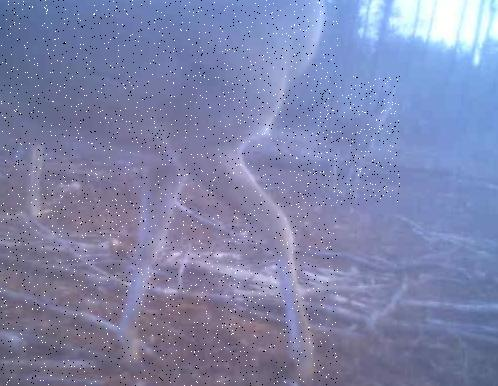Deer: (0, 0, 338, 386), (313, 75, 400, 205)
